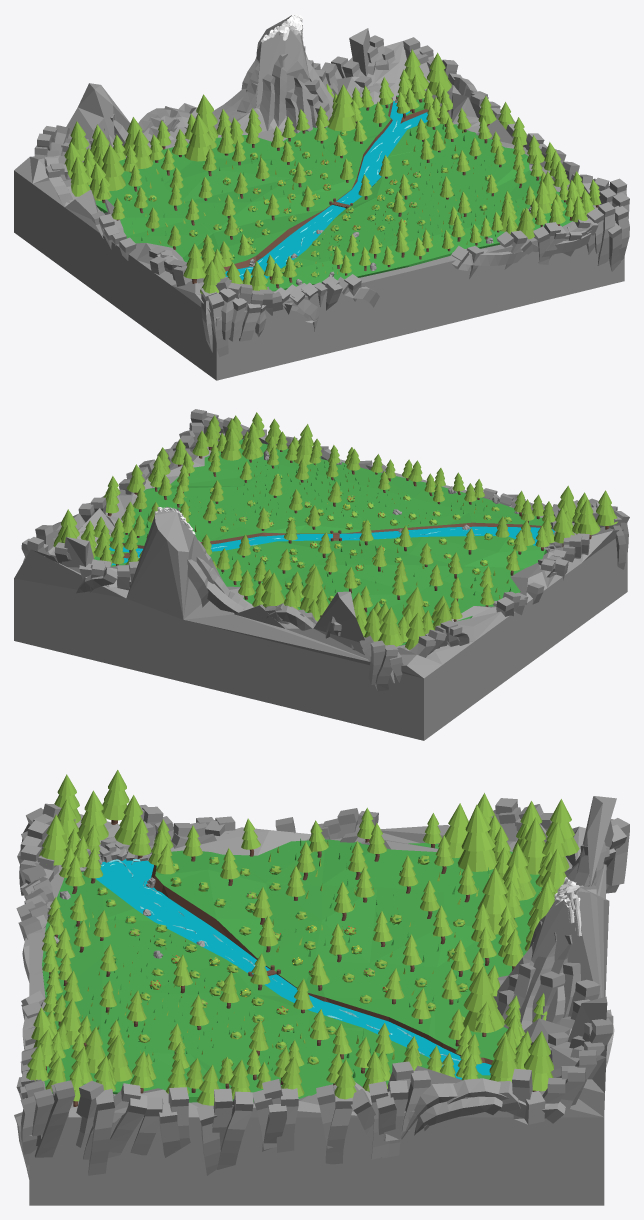
Rendered from meadow.glb.
3 views of the same model, one above another, from view 1: azimuth 30°, elevation 25°; view 2: azimuth 150°, elevation 25°; view 3: azimuth 270°, elevation 25° (orthographic). The views are drawn at different scales.
Parts seen in each view (by area): view 1: Node; view 2: Node; view 3: Node.
Part boxes in pixels (left/top/right/bottom): Node: left=14, top=14, right=629, bottom=380; Node: left=14, top=409, right=629, bottom=740; Node: left=14, top=770, right=629, bottom=1205.
Bounding box in the file's own units: 4.8 × 1.72 × 4.24.
